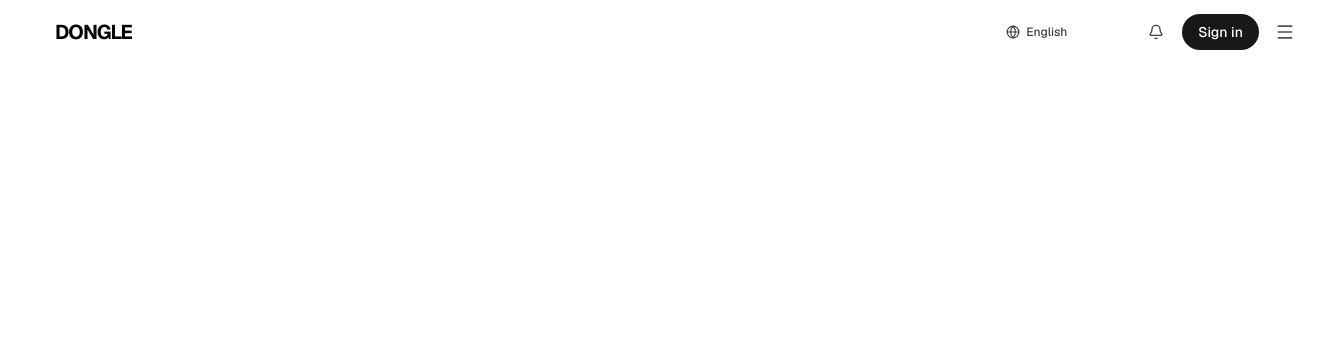
Test: Navbar active navigation › exposes accessible name and expanded state for the mobile menu button
Click the button named "open menu".
click(1285, 32)  # box [1267,14,1303,50]
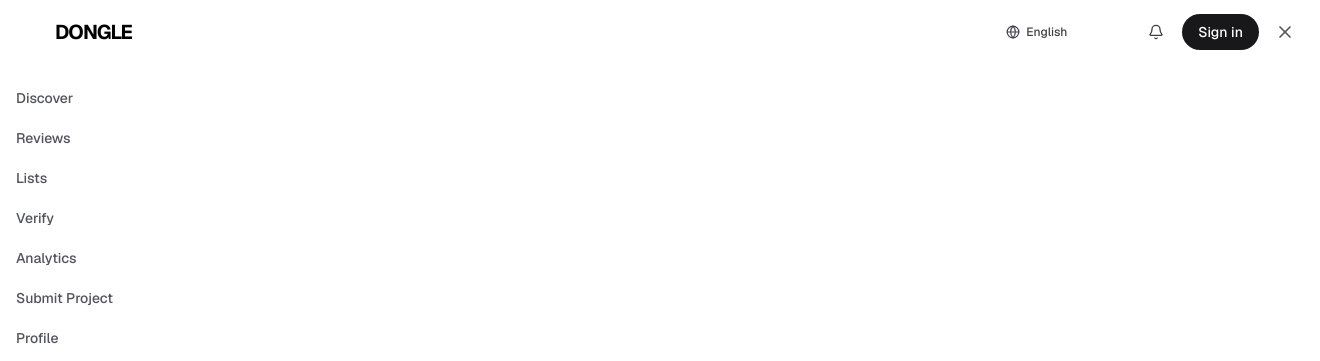
Expected: the button named "close menu" is expanded, [1267,14,1303,50]
